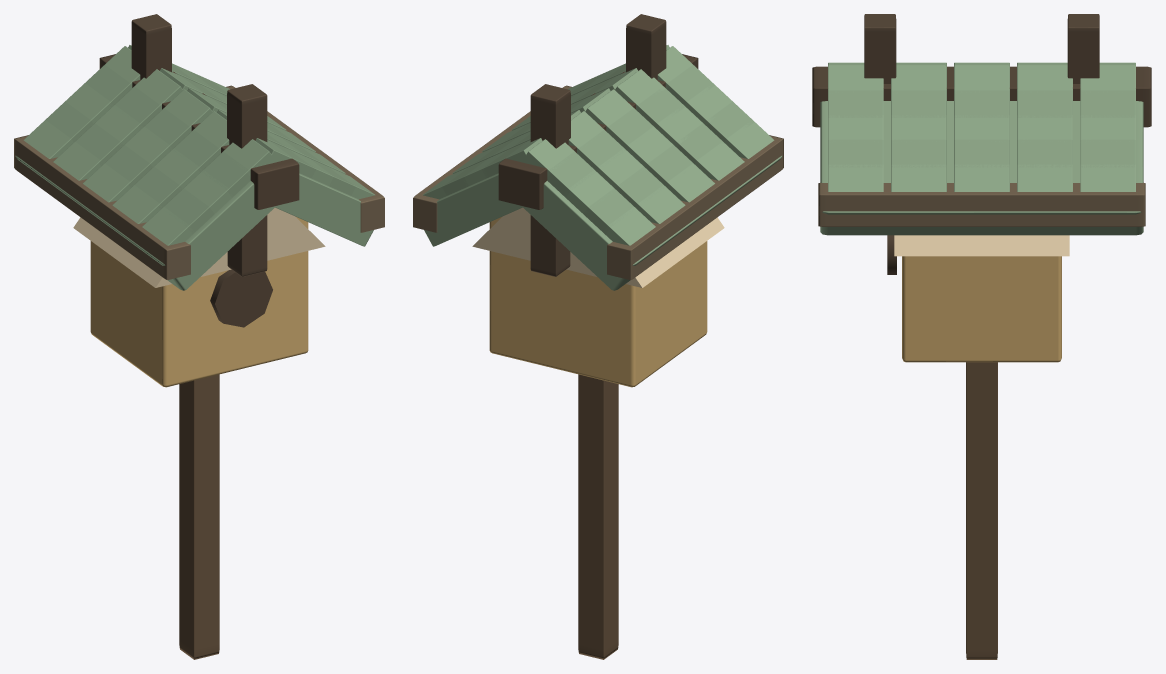
File: birdhouse-1.glb
The picture shows the model from 3 angles, left to right: view 1: azimuth 30°, elevation 25°; view 2: azimuth 150°, elevation 25°; view 3: azimuth 270°, elevation 25°; orthographic projection. The views are drawn at different scales.
Parts seen in each view (by area): view 1: birdhouse-1-0; view 2: birdhouse-1-0; view 3: birdhouse-1-0.
Part boxes in pixels (left/top/right/bottom): birdhouse-1-0: left=14, top=14, right=384, bottom=659; birdhouse-1-0: left=413, top=14, right=783, bottom=659; birdhouse-1-0: left=812, top=14, right=1151, bottom=659.
Bounding box in the file's own units: 0.6786 × 1.75 × 0.85.
